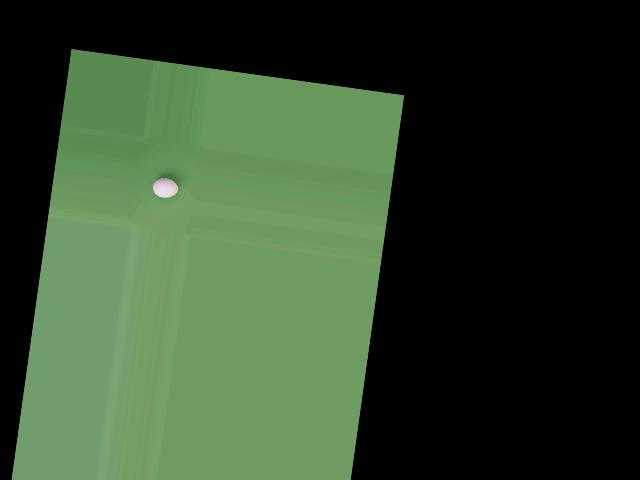egg: (150, 176, 179, 199)
